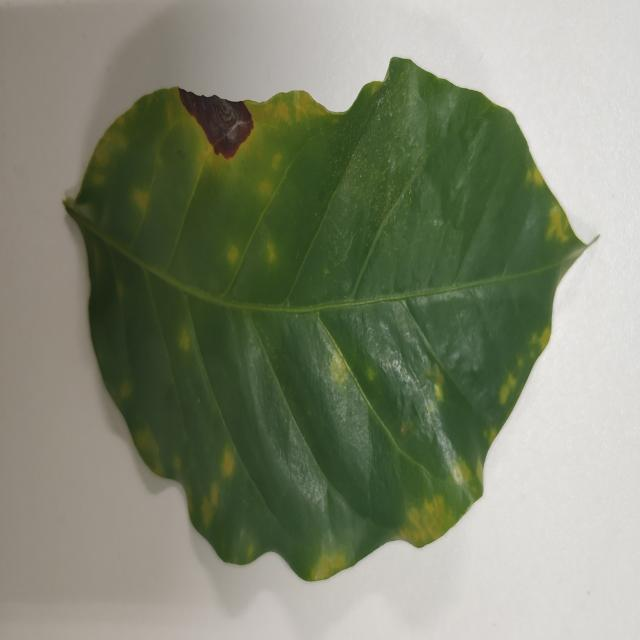Enfermedad-Roya: (62, 57, 594, 585)
